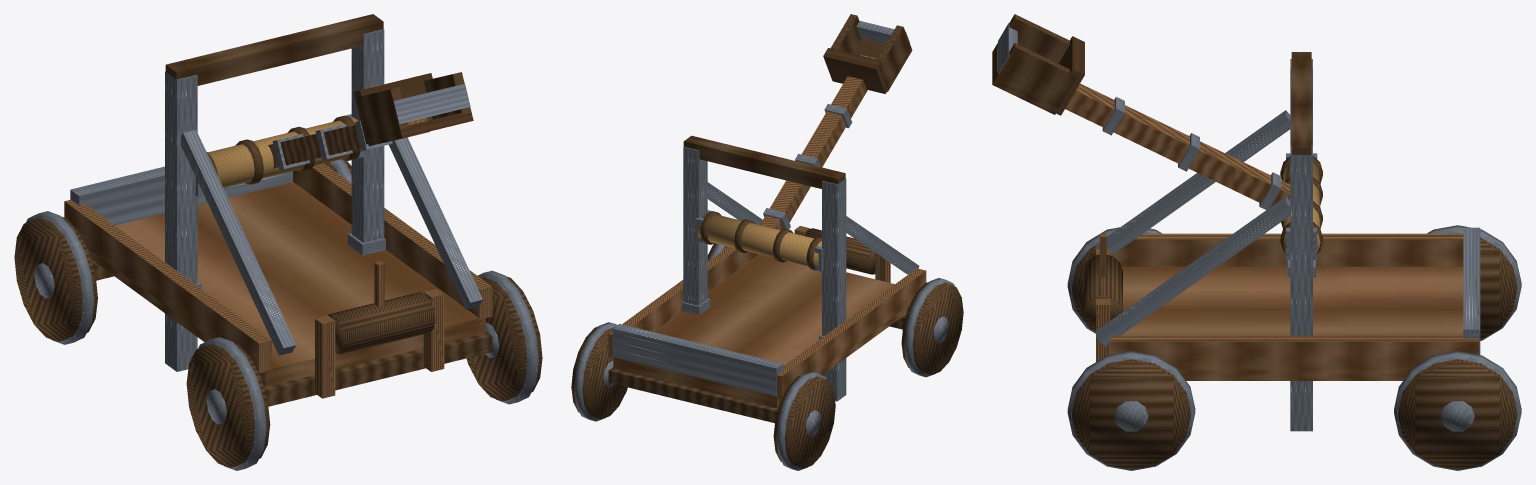
Rendered from ae_catapult_small_iron_lod0.glb.
The picture shows the model from 3 angles, left to right: view 1: azimuth 30°, elevation 25°; view 2: azimuth 150°, elevation 25°; view 3: azimuth 270°, elevation 25°; orthographic projection. The views are drawn at different scales.
Parts seen in each view (by area): view 1: bed, sideL, post_L, wheel_FL_rim, wheel_RL_rim, cross_top, sideR, brace_-0.72, post_R, wheel_RR_rim, front_stop, winch_drum (+16 smaller); view 2: bed, front_stop, sideL, post_L, wheel_RL_rim, wheel_FL_rim, post_R, arm_beam, cross_top, skein, sideR, axle_front (+12 smaller); view 3: bed, sideR, wheel_FR_rim, wheel_RR_rim, sideL, arm_beam, post_R, brace_0.72, brace_-0.72, spoon_R, wheel_FL_rim, cross_top (+15 smaller).
Boxes of the visible parts, left/top/right/bottom form: bed: left=87, top=182, right=485, bottom=386; sideL: left=64, top=199, right=271, bottom=373; post_L: left=165, top=71, right=197, bottom=371; wheel_FL_rim: left=14, top=217, right=97, bottom=341; wheel_RL_rim: left=186, top=343, right=270, bottom=467; cross_top: left=165, top=14, right=383, bottom=85; sideR: left=293, top=163, right=492, bottom=319; brace_-0.72: left=181, top=130, right=296, bottom=355; post_R: left=351, top=29, right=384, bottom=242; wheel_RR_rim: left=466, top=276, right=542, bottom=401; front_stop: left=70, top=166, right=292, bottom=225; winch_drum: left=328, top=292, right=435, bottom=354; bed: left=613, top=254, right=909, bottom=408; front_stop: left=612, top=324, right=783, bottom=396; sideL: left=776, top=268, right=926, bottom=398; post_L: left=822, top=178, right=846, bottom=401; wheel_RL_rim: left=901, top=282, right=963, bottom=374; wheel_FL_rim: left=773, top=376, right=835, bottom=468; post_R: left=683, top=147, right=707, bottom=305; arm_beam: left=760, top=54, right=876, bottom=229; cross_top: left=683, top=135, right=845, bottom=188; skein: left=697, top=212, right=821, bottom=266; sideR: left=608, top=246, right=758, bottom=357; axle_front: left=608, top=367, right=778, bottom=423; bed: left=1121, top=266, right=1463, bottom=380; sideR: left=1110, top=335, right=1478, bottom=369; wheel_FR_rim: left=1398, top=359, right=1517, bottom=469; wheel_RR_rim: left=1072, top=359, right=1190, bottom=469; sideL: left=1110, top=233, right=1463, bottom=266; arm_beam: left=1065, top=83, right=1290, bottom=206; post_R: left=1290, top=145, right=1312, bottom=431; brace_0.72: left=1096, top=196, right=1290, bottom=346; brace_-0.72: left=1096, top=110, right=1290, bottom=255; spoon_R: left=996, top=43, right=1076, bottom=108; wheel_FL_rim: left=1456, top=233, right=1517, bottom=339; cross_top: left=1291, top=52, right=1311, bottom=154.
Bounding box in the file's own units: 2.3 × 2.92 × 3.73.
Materials: 3 (3 with a texture image).
